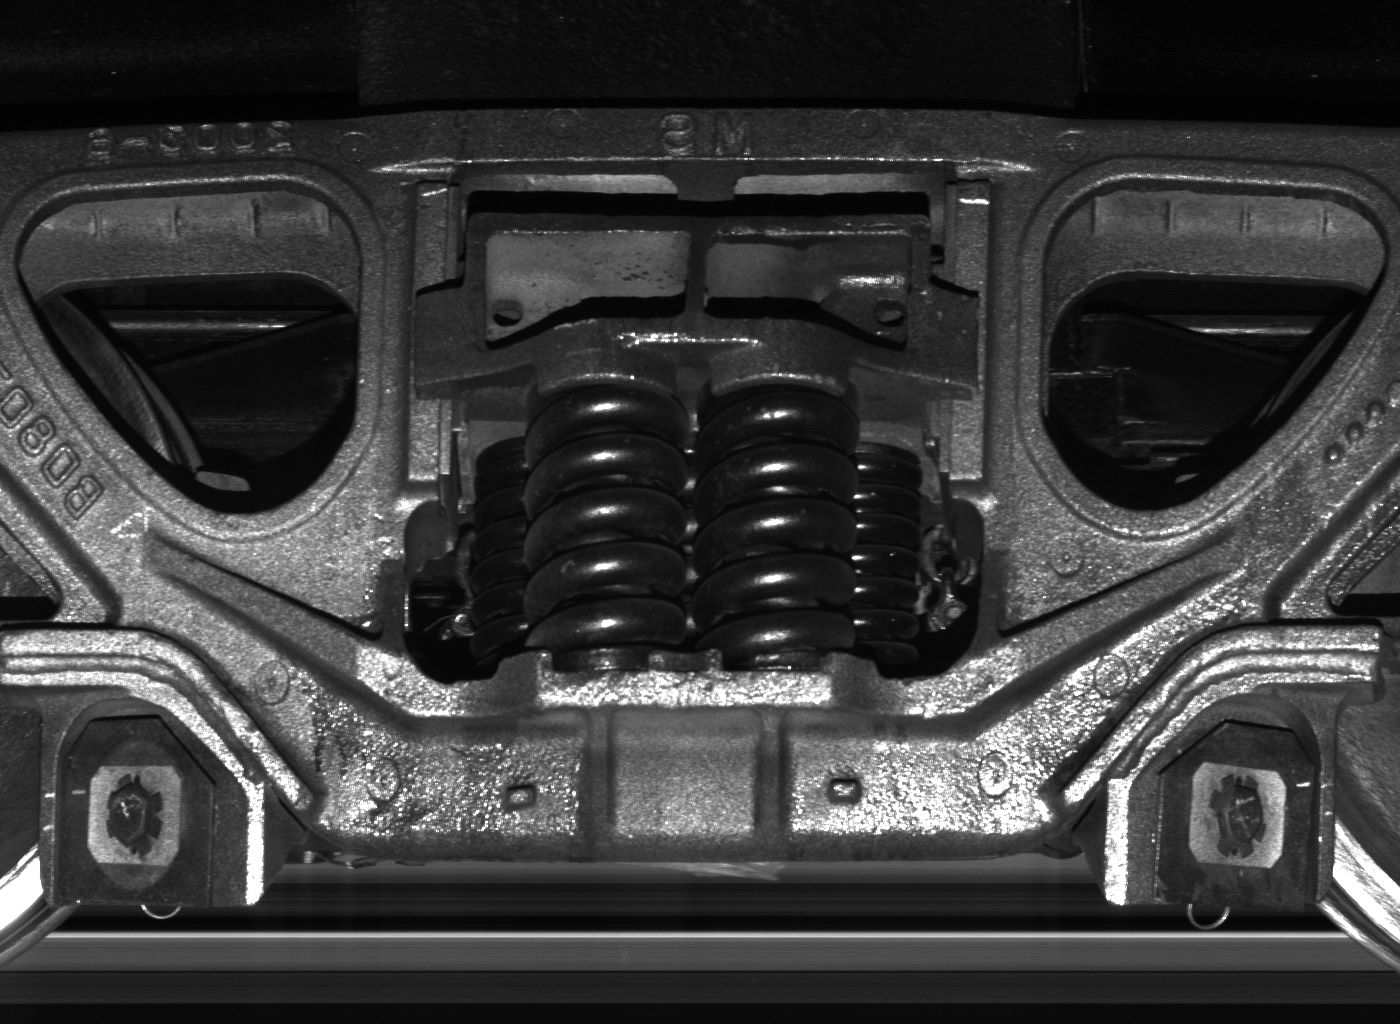normal: (39, 695, 265, 908), (1128, 690, 1333, 914)
